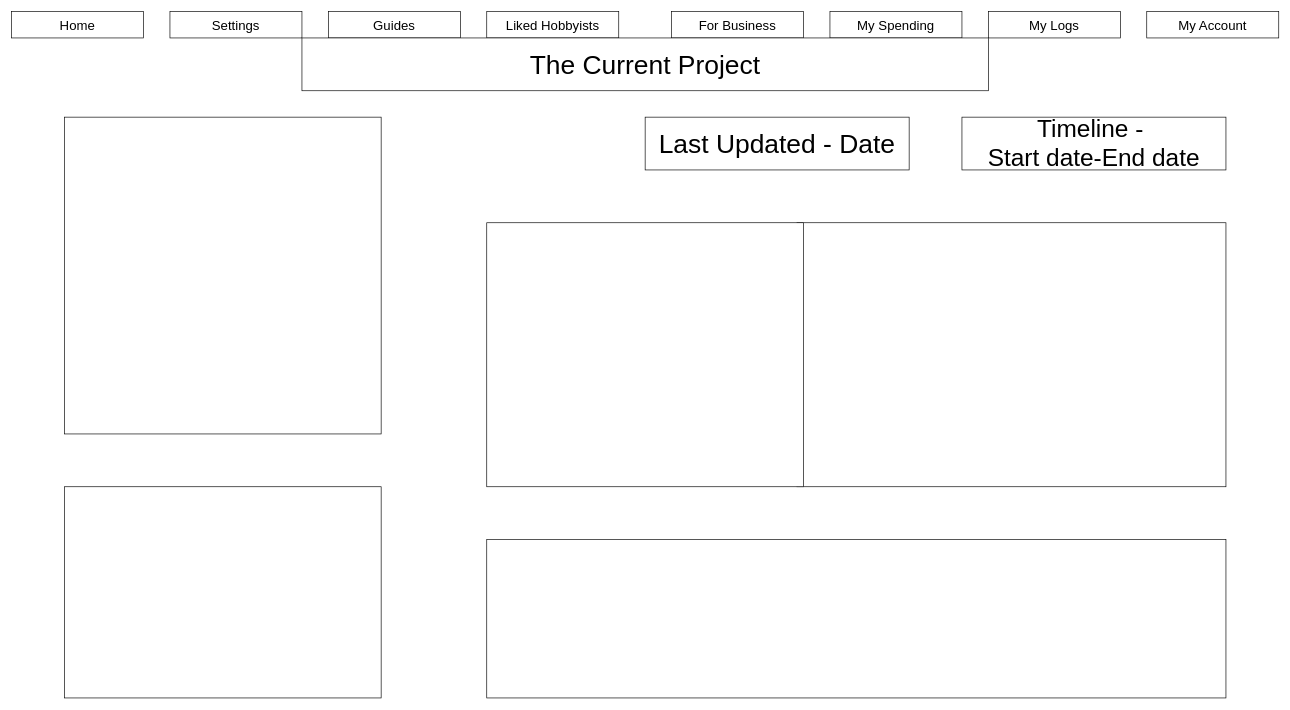
Image size: 1290x710. Some labels were removed from this diagram. The centre of each missing label's shape, as x and y in pixels:
Comments??? from other users: (x=856, y=618)
Instruction Text: (x=645, y=354)
Media - Arrows to cycle between multiple photos or videos: (x=1011, y=354)
Other projects by creator list: (x=222, y=592)
Radio Button Instructions: (x=222, y=275)
